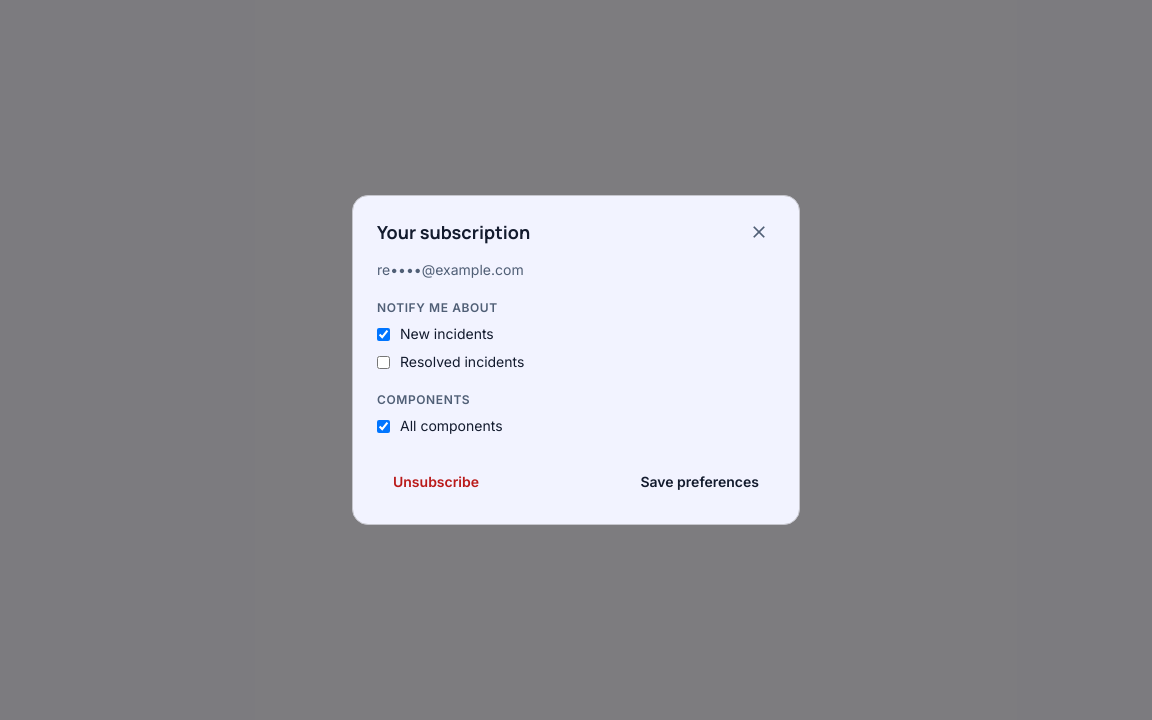
it: subscription links › asks for confirmation before unsubscribing from the manage page
The image size is (1152, 720).
Step 1. Click the button "Unsubscribe" → (436, 482), box [377, 464, 495, 500]
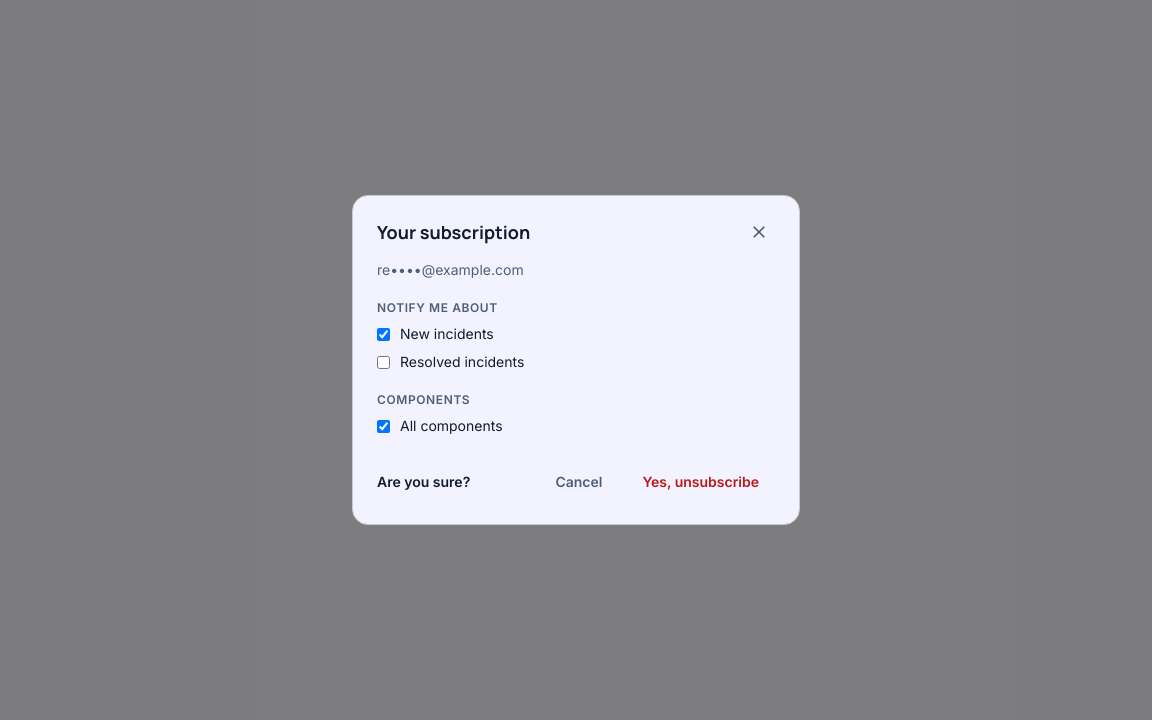
Expected: the text "Are you sure?" is shown, [377, 472, 470, 492]
Step 2. Click the button "Cancel" → (579, 482), box [539, 464, 618, 500]
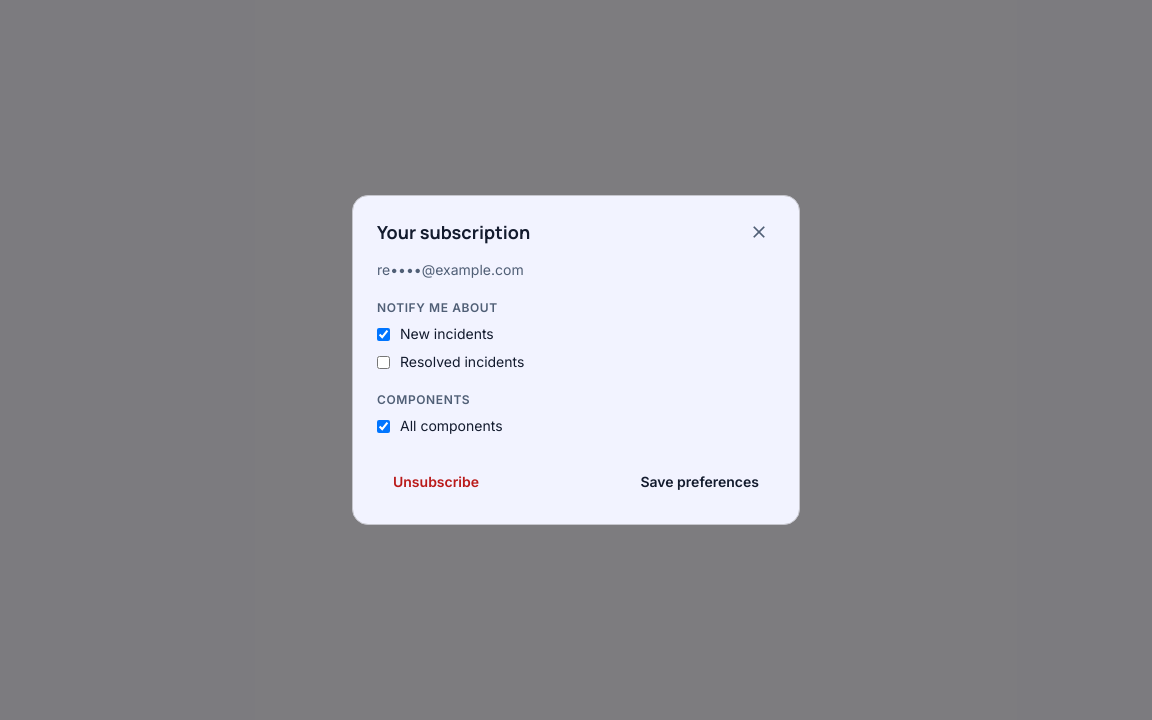
Step 3. Click the button "Unsubscribe" → (436, 482), box [377, 464, 495, 500]
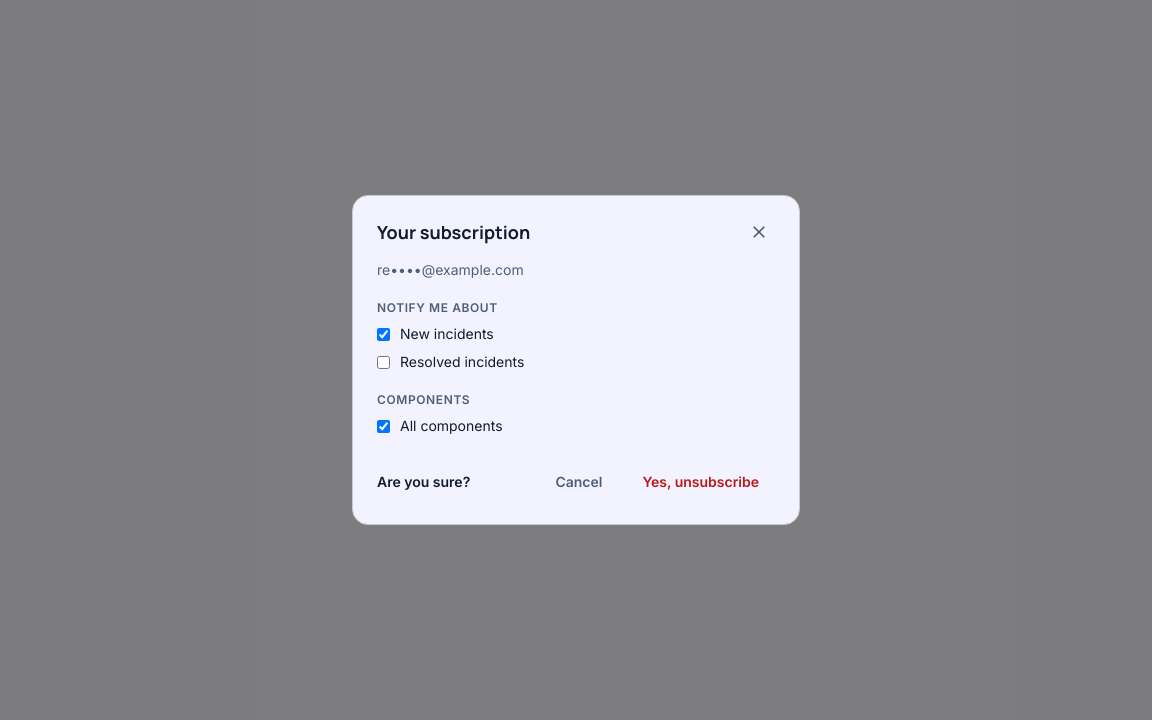
Step 4. Click the button "Yes, unsubscribe" → (701, 482), box [626, 464, 775, 500]
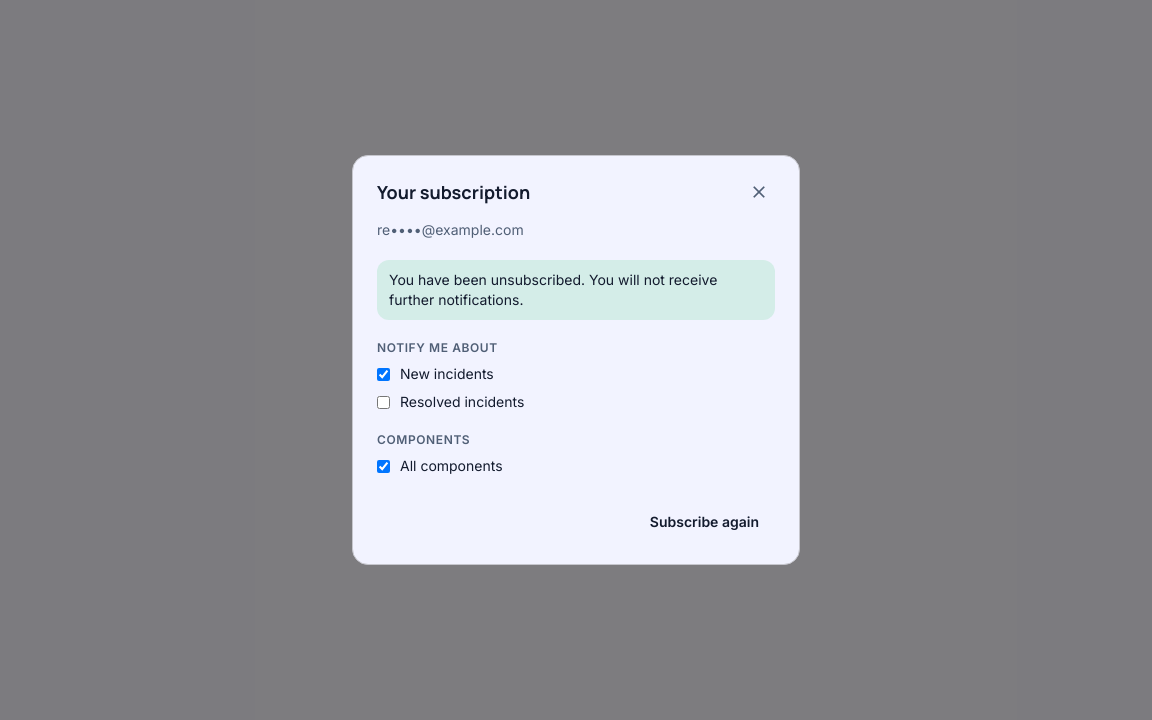
Expected: the text "You have been unsubscribed. You will not receive further notifications." is shown, [377, 260, 775, 320]
